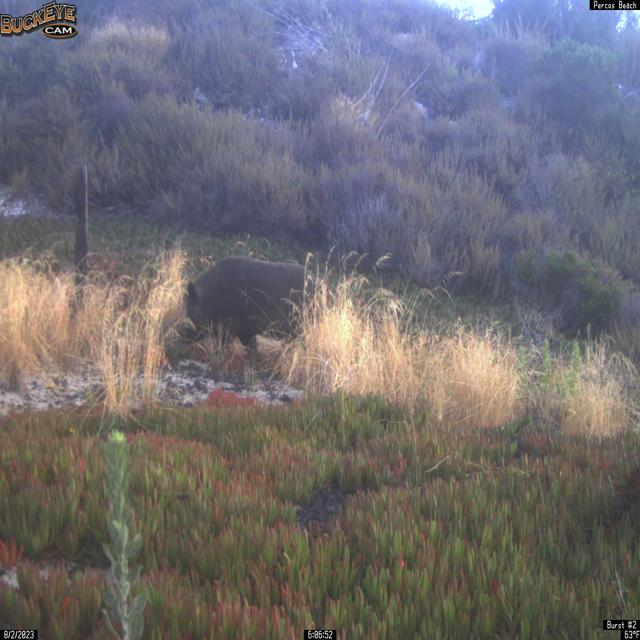pig: (181, 255, 322, 351)
